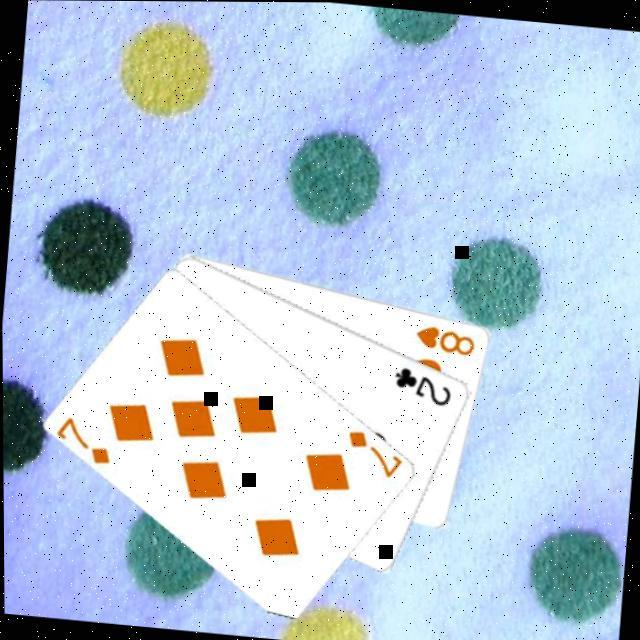2C: (389, 360, 456, 408)
7D: (342, 424, 406, 480), (52, 411, 116, 467)
8H: (411, 320, 479, 358)
